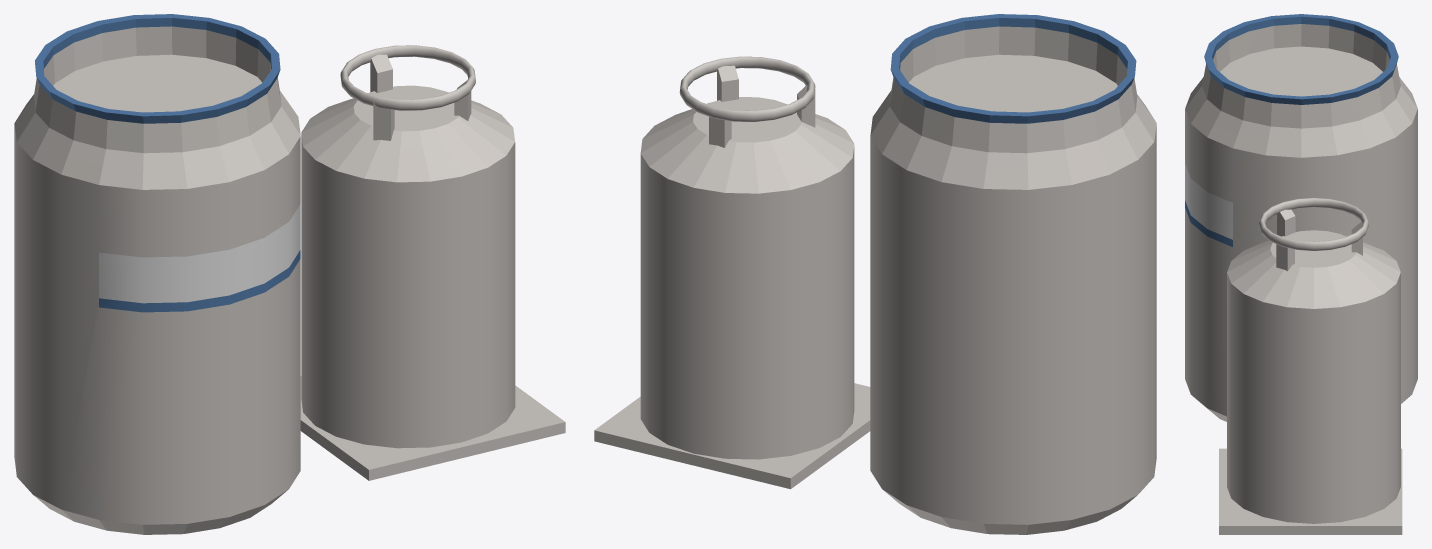
Rendered from nitro tanks.fbx.
3 renders of one model, left to right at view 1: azimuth 30°, elevation 25°; view 2: azimuth 150°, elevation 25°; view 3: azimuth 270°, elevation 25°, orthographic. The views are drawn at different scales.
Visible parts, largest first — view 1: pCylinder1, pCylinder2, pCube1, pTorus1, pCube2, pCube3; view 2: pCylinder1, pCylinder2, pCube1, pTorus1, pCube4; view 3: pCylinder1, pCylinder2, pCube1, pTorus1, pCube3, pCube4.
Boxes of the visible parts, x1,y1,x2,y2 form: pCylinder1: [14, 14, 300, 534]; pCylinder2: [301, 85, 515, 448]; pCube1: [300, 376, 565, 480]; pTorus1: [340, 45, 475, 110]; pCube2: [370, 54, 392, 92]; pCube3: [373, 101, 394, 140]; pCylinder1: [870, 14, 1156, 534]; pCylinder2: [640, 97, 854, 459]; pCube1: [594, 383, 870, 489]; pTorus1: [679, 56, 815, 121]; pCube4: [717, 65, 738, 101]; pCylinder1: [1185, 14, 1417, 421]; pCylinder2: [1227, 230, 1400, 523]; pCube1: [1219, 448, 1402, 534]; pTorus1: [1259, 198, 1368, 250]; pCube3: [1277, 209, 1295, 236]; pCube4: [1276, 244, 1294, 271].
Bounding box in the file's own units: 12.1 × 10.02 × 6.26.
